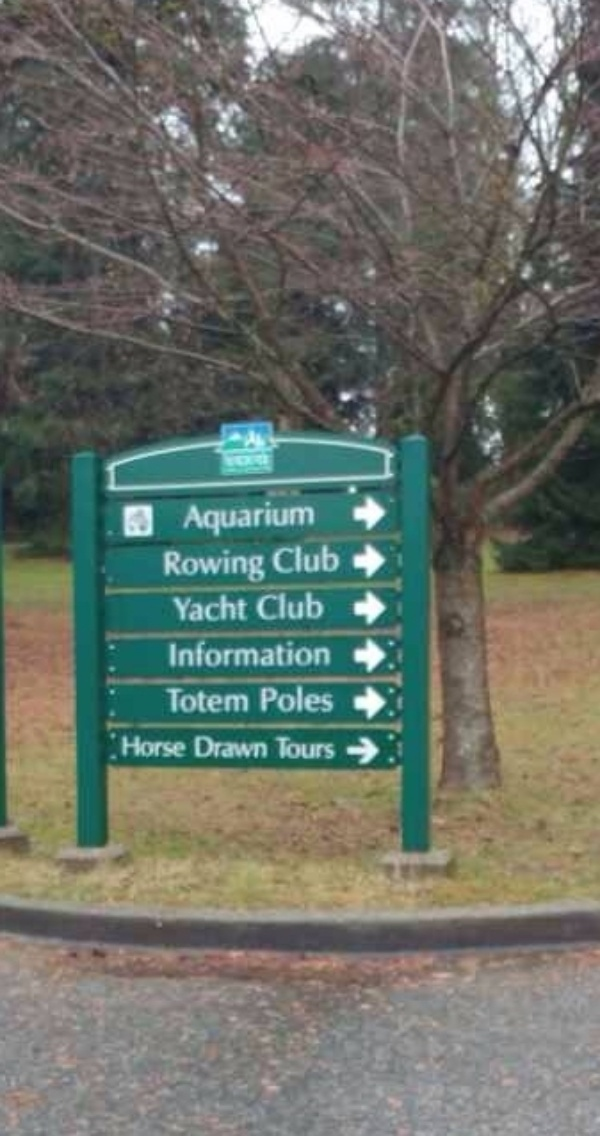text: (193, 499, 208, 536), (209, 499, 224, 536), (225, 499, 240, 536), (241, 499, 256, 536), (257, 499, 272, 536), (273, 499, 288, 536), (289, 499, 304, 536), (177, 547, 192, 583), (193, 547, 208, 583), (209, 547, 224, 583), (225, 547, 240, 583), (241, 547, 256, 583), (273, 682, 288, 715), (289, 682, 304, 715), (305, 682, 320, 715), (177, 590, 192, 622), (193, 590, 208, 622), (209, 590, 224, 622), (225, 590, 240, 622), (163, 547, 176, 583), (321, 682, 335, 715), (273, 544, 288, 574), (289, 544, 304, 574), (305, 544, 320, 574), (321, 544, 336, 574), (257, 592, 272, 622), (273, 592, 288, 622), (289, 592, 304, 622), (305, 592, 320, 622), (177, 638, 192, 666), (193, 638, 208, 666), (209, 638, 224, 666), (225, 638, 240, 666), (241, 638, 256, 666), (257, 638, 272, 666), (273, 638, 288, 666), (289, 638, 304, 666), (305, 638, 320, 666), (177, 686, 192, 713), (193, 686, 208, 713), (209, 686, 224, 713), (225, 686, 240, 713), (260, 682, 272, 715), (129, 734, 144, 759), (145, 734, 160, 759), (161, 734, 176, 759), (209, 734, 224, 759), (225, 734, 240, 759), (241, 734, 256, 759), (182, 499, 192, 536), (273, 736, 288, 759), (289, 736, 304, 759), (305, 736, 320, 759), (305, 499, 314, 536), (195, 734, 208, 759), (257, 547, 266, 583), (164, 686, 176, 713), (321, 736, 335, 759), (257, 734, 269, 759), (321, 638, 330, 666), (177, 734, 187, 759), (241, 686, 250, 713), (241, 590, 248, 622), (257, 453, 273, 467), (225, 453, 240, 467), (241, 453, 256, 467), (170, 638, 176, 666), (171, 590, 176, 622), (122, 734, 128, 759), (337, 544, 341, 574), (321, 592, 325, 622), (271, 544, 272, 574), (255, 592, 256, 622), (223, 453, 224, 467)
